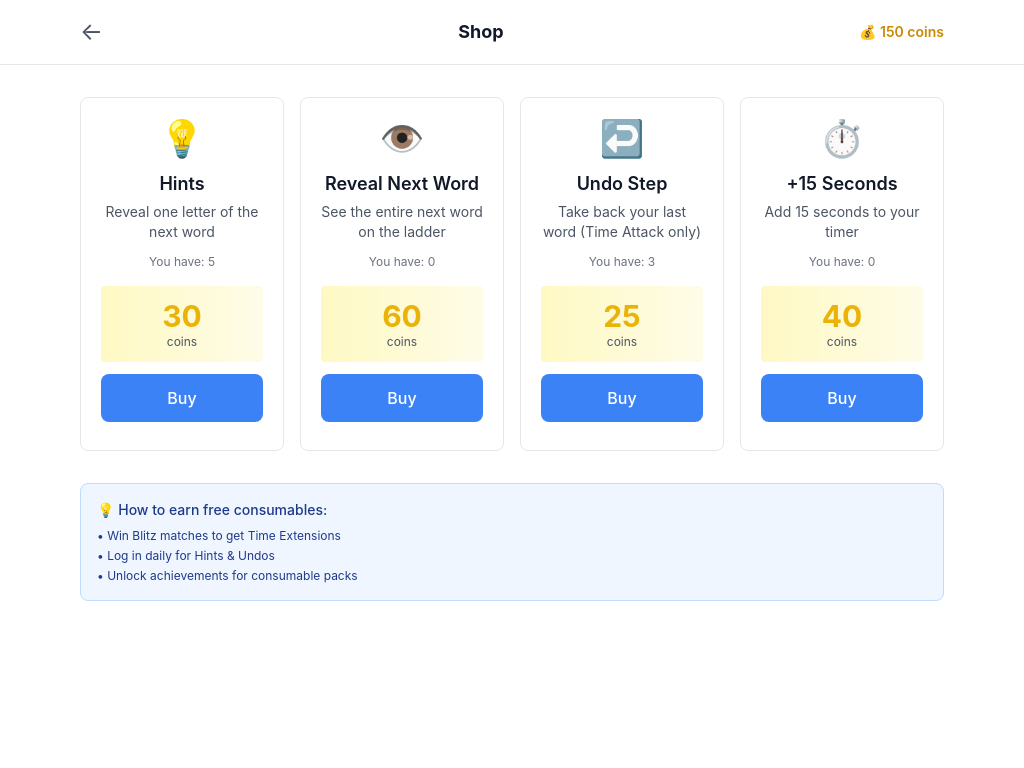
Test: ShopPage Integration Tests › Modal and Toast Interactions › cancel button closes modal without updating state
This screenshot has width=1024, height=768.
expect the text "💰 150 coins" is shown: met, box [859,22,944,42]
Click the button with aria-label "Buy 5x Hints" at (182, 398), box [101,374,263,422]
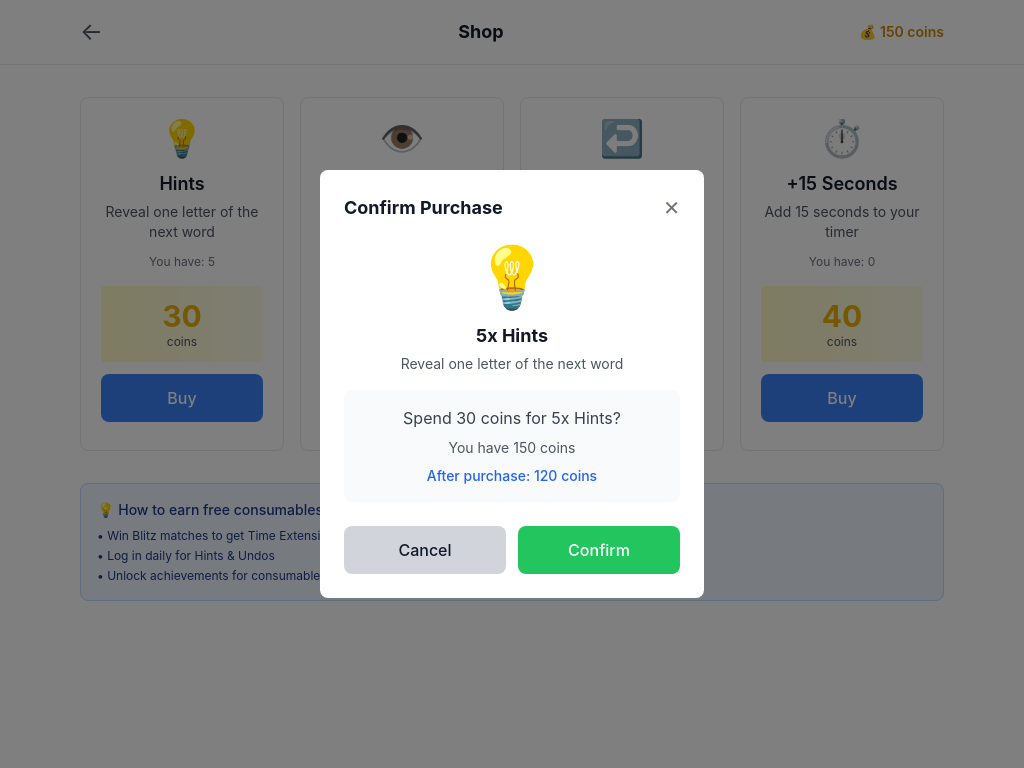
expect the dialog is shown: met, box [320,170,704,598]
Click the button with aria-label "Cancel purchase" at (425, 550), box [344,526,506,574]
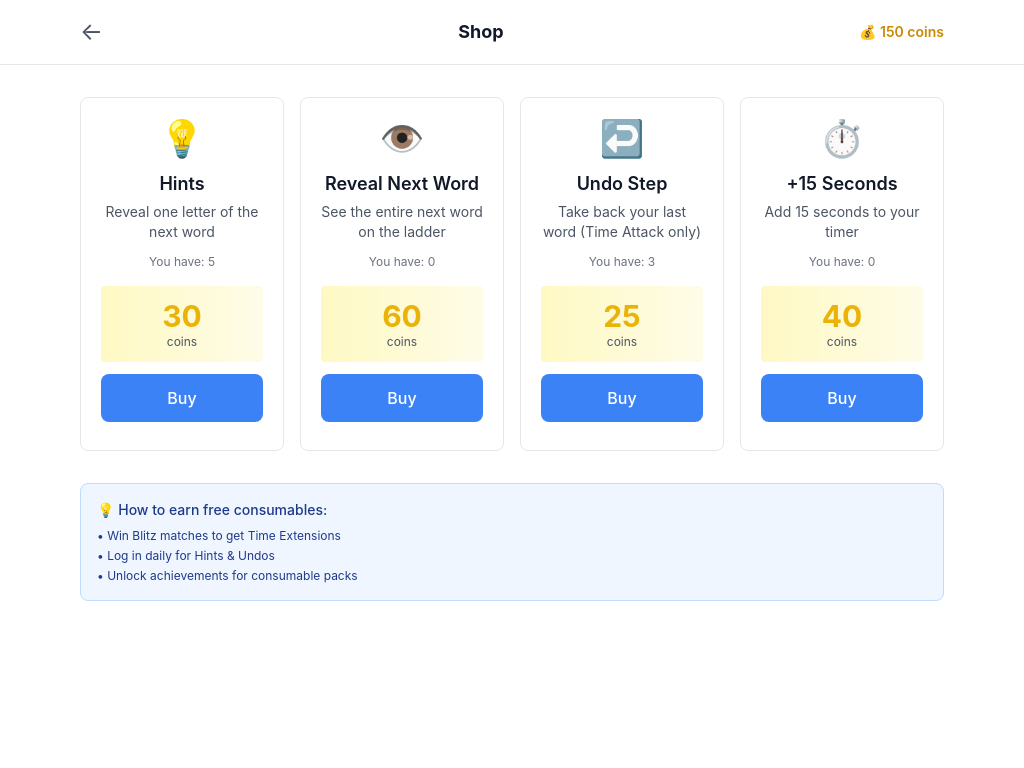
expect the dialog is gone: met
